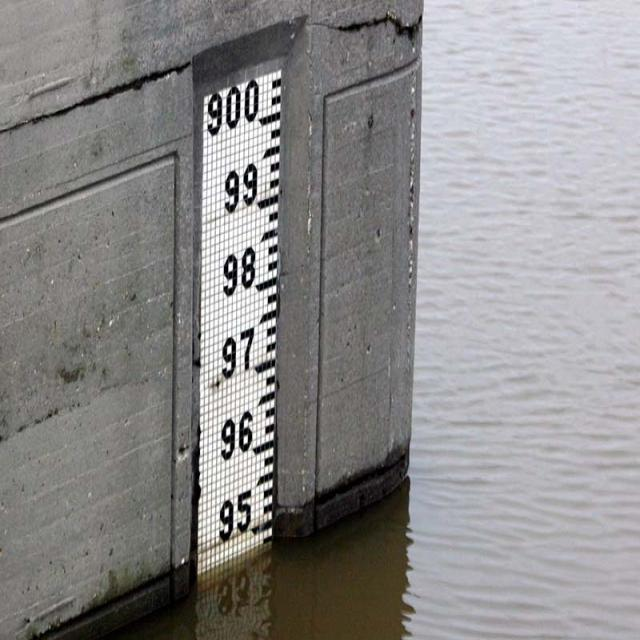staff: (194, 57, 283, 584)
